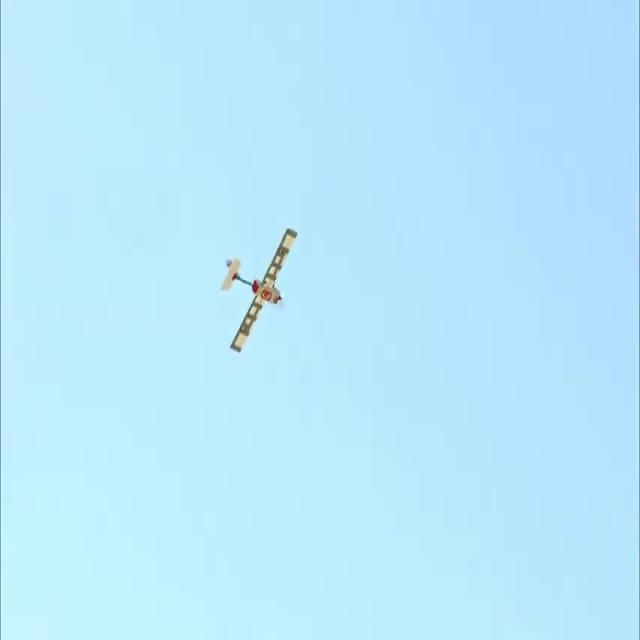iha: (252, 226, 266, 354)
